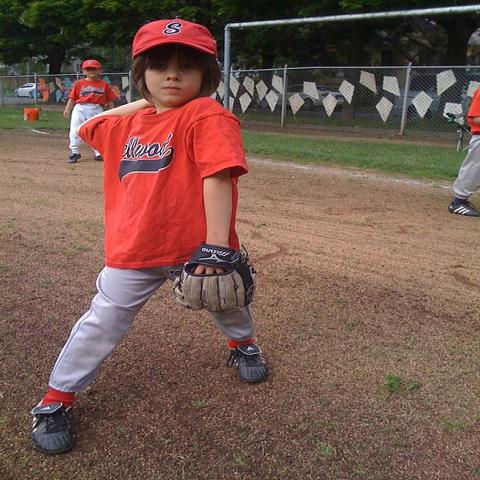car: (392, 72, 479, 122), (257, 84, 344, 111), (13, 83, 42, 98), (60, 80, 74, 88)
